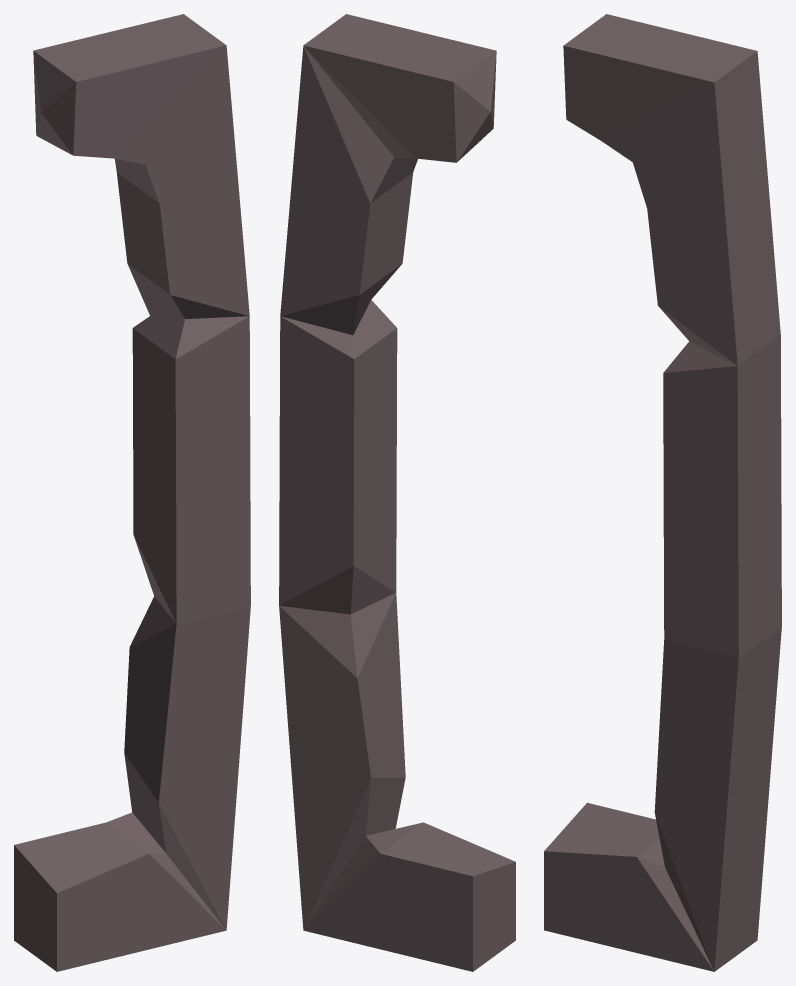
Rendered from SM_L_R_Home_pillar.fbx.
3 renders of one model, left to right at view 1: azimuth 30°, elevation 25°; view 2: azimuth 150°, elevation 25°; view 3: azimuth 330°, elevation 25°, orthographic.
Parts seen in each view (by area): view 1: SM_L_R_Home_Pillar; view 2: SM_L_R_Home_Pillar; view 3: SM_L_R_Home_Pillar.
Boxes of the visible parts, x1,y1,x2,y2 form: SM_L_R_Home_Pillar: (14,14,250,971); SM_L_R_Home_Pillar: (279,14,515,971); SM_L_R_Home_Pillar: (544,14,781,971).
Size of the model in its own units: 0.6892 by 3.01 by 0.2641.
